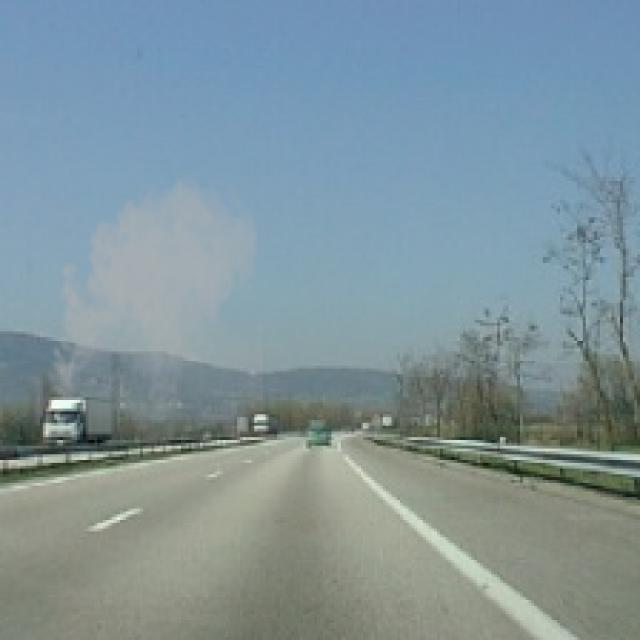Smoke: (46, 166, 266, 420)
